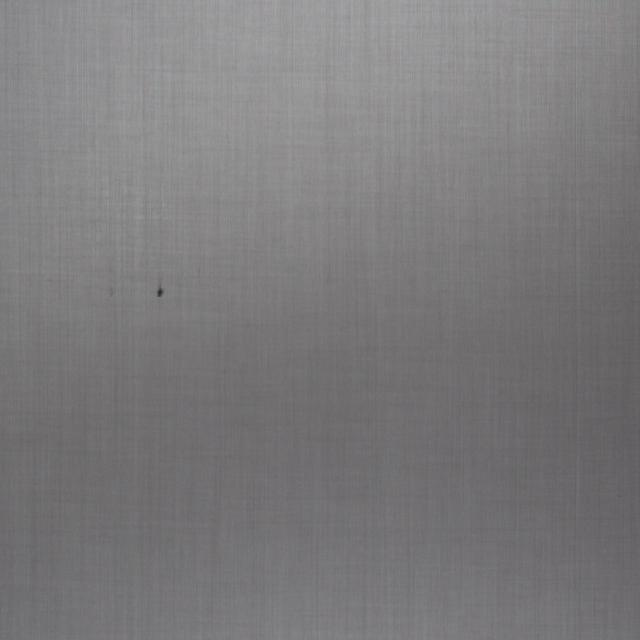dirty: (156, 280, 165, 299)
